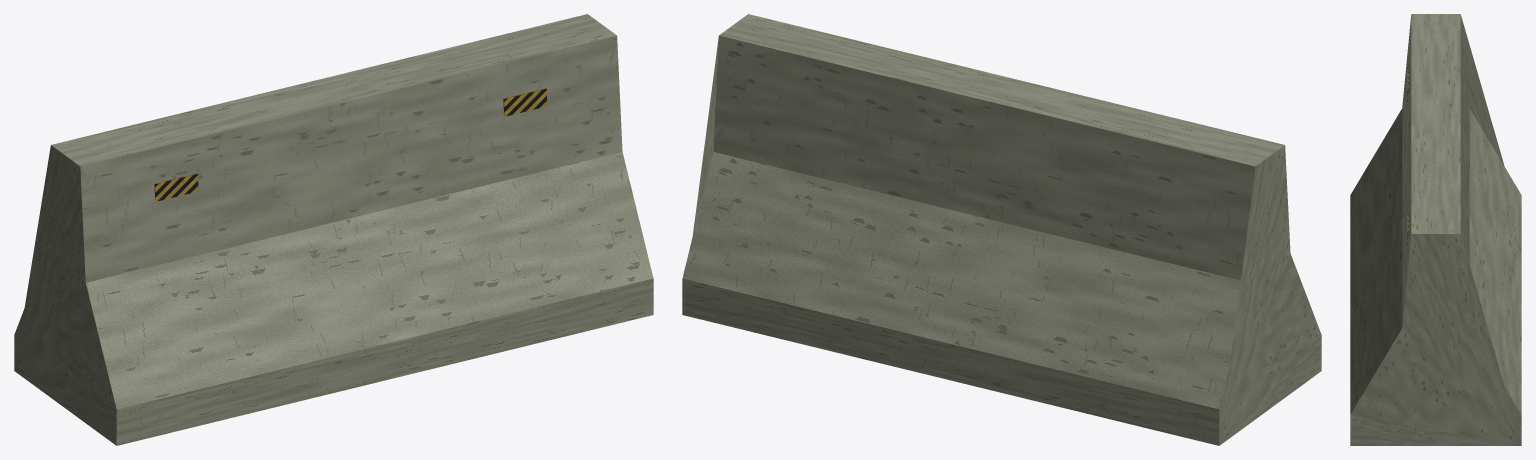
File: ConcreteBarrier.glb
The picture shows the model from 3 angles, left to right: view 1: azimuth 30°, elevation 25°; view 2: azimuth 150°, elevation 25°; view 3: azimuth 270°, elevation 25°; orthographic projection. The views are drawn at different scales.
Visible parts, largest first — view 1: ConcreteBarrier; view 2: ConcreteBarrier; view 3: ConcreteBarrier.
Part boxes in pixels (bbox=[...]): ConcreteBarrier: bbox=[14, 14, 653, 445]; ConcreteBarrier: bbox=[682, 14, 1321, 445]; ConcreteBarrier: bbox=[1350, 14, 1521, 445].
Size of the model in its own units: 2 by 0.9 by 0.66.
2 materials, 2 textured.
